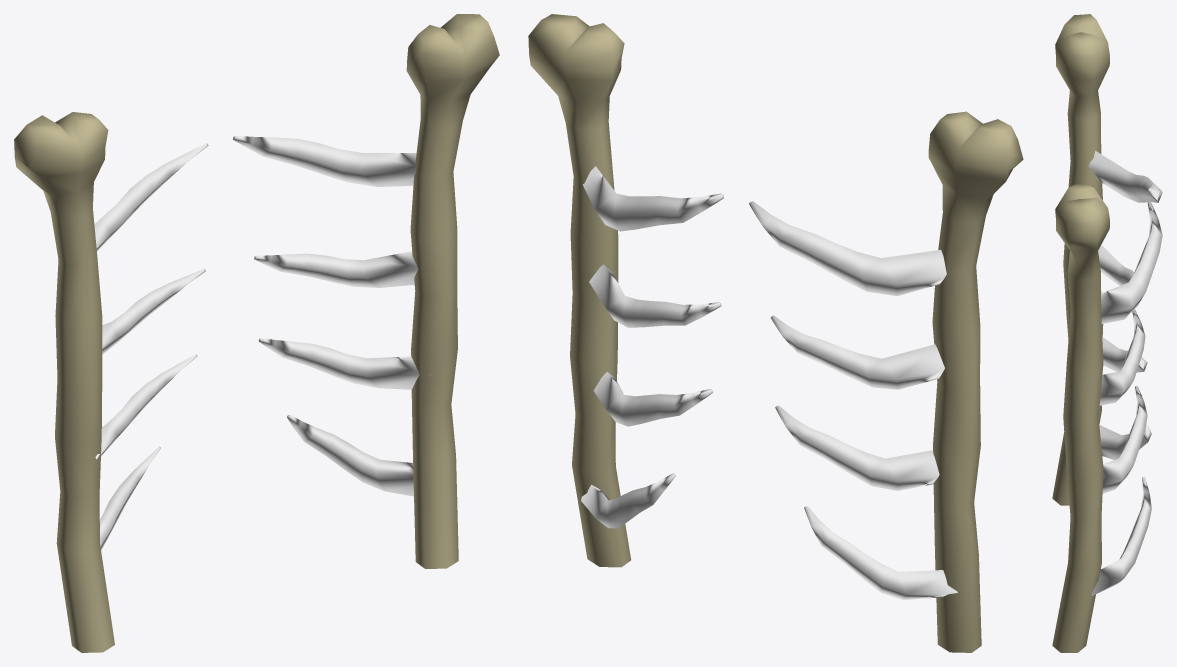
Rendered from bone_chairBack.glb.
The picture shows the model from 3 angles, left to right: view 1: azimuth 30°, elevation 25°; view 2: azimuth 150°, elevation 25°; view 3: azimuth 270°, elevation 25°; orthographic projection. The views are drawn at different scales.
Parts seen in each view (by area): view 1: LargeBone, LargeBone.001, mammothTusk.008, mammothTusk.009, mammothTusk.010, mammothTusk.011, mammothTusk, mammothTusk.001, mammothTusk.002, mammothTusk.003; view 2: LargeBone, LargeBone.001, mammothTusk, mammothTusk.001, mammothTusk.002, mammothTusk.008, mammothTusk.003, mammothTusk.009, mammothTusk.010, mammothTusk.011; view 3: LargeBone.001, LargeBone, mammothTusk.008, mammothTusk, mammothTusk.011, mammothTusk.010, mammothTusk.009, mammothTusk.003, mammothTusk.001, mammothTusk.002.
Boxes of the visible parts, left/top/right/bottom form: LargeBone: left=14, top=112, right=114, bottom=652; LargeBone.001: left=406, top=14, right=499, bottom=568; mammothTusk.008: left=233, top=136, right=416, bottom=186; mammothTusk.009: left=254, top=251, right=418, bottom=287; mammothTusk.010: left=258, top=338, right=431, bottom=389; mammothTusk.011: left=287, top=415, right=413, bottom=496; mammothTusk: left=94, top=143, right=208, bottom=251; mammothTusk.001: left=102, top=268, right=205, bottom=354; mammothTusk.002: left=95, top=354, right=197, bottom=459; mammothTusk.003: left=99, top=446, right=160, bottom=550; LargeBone: left=928, top=111, right=1023, bottom=652; LargeBone.001: left=528, top=14, right=631, bottom=567; mammothTusk: left=749, top=201, right=946, bottom=295; mammothTusk.001: left=770, top=315, right=944, bottom=389; mammothTusk.002: left=775, top=405, right=939, bottom=490; mammothTusk.008: left=582, top=166, right=723, bottom=231; mammothTusk.003: left=804, top=506, right=957, bottom=600; mammothTusk.009: left=589, top=264, right=721, bottom=327; mammothTusk.010: left=593, top=372, right=712, bottom=426; mammothTusk.011: left=581, top=473, right=675, bottom=528; LargeBone.001: left=1052, top=184, right=1109, bottom=652; LargeBone: left=1052, top=14, right=1109, bottom=505; mammothTusk.008: left=1100, top=201, right=1162, bottom=323; mammothTusk: left=1088, top=151, right=1162, bottom=202; mammothTusk.011: left=1091, top=476, right=1151, bottom=595; mammothTusk.010: left=1102, top=386, right=1147, bottom=493; mammothTusk.009: left=1099, top=309, right=1145, bottom=405; mammothTusk.003: left=1099, top=424, right=1151, bottom=459; mammothTusk.001: left=1098, top=245, right=1133, bottom=285; mammothTusk.002: left=1102, top=337, right=1147, bottom=372.
Size of the model in its own units: 0.5281 by 0.5649 by 0.122.
